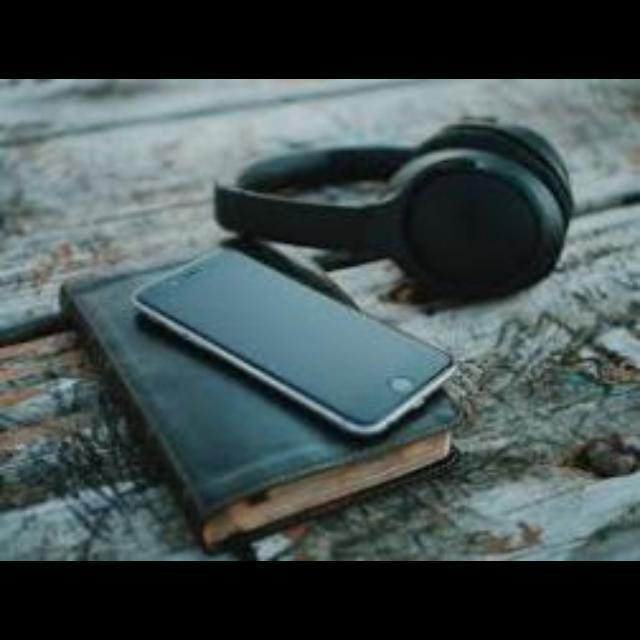phone: (131, 236, 473, 437)
